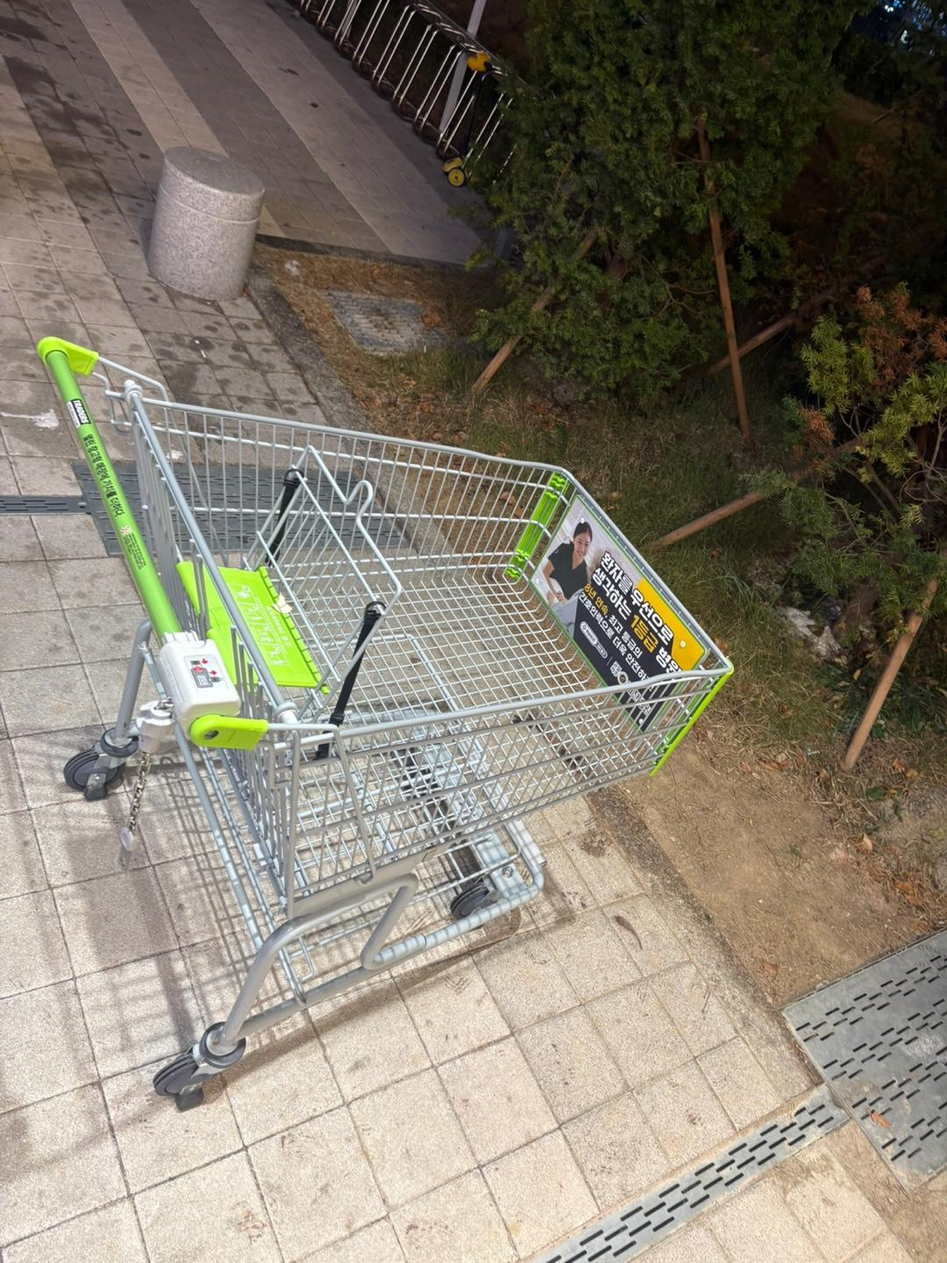empty_cart: (25, 329, 745, 1130)
